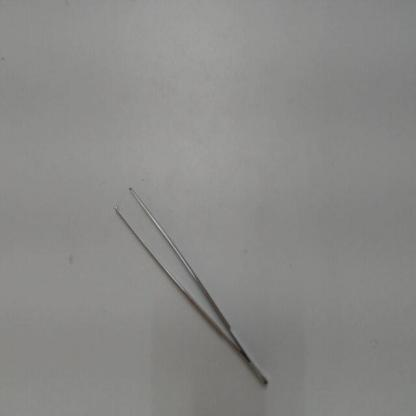Gillies Toothed Dissector: (113, 166, 278, 398)
